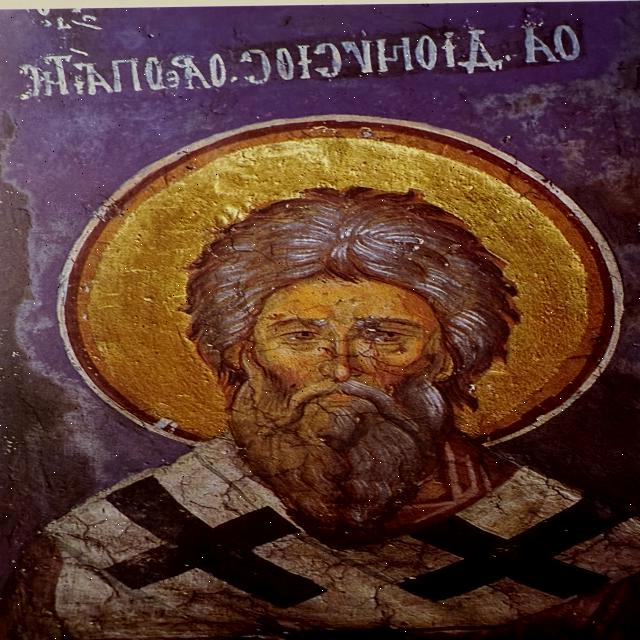aura: (53, 114, 626, 462)
church_father: (3, 114, 640, 640)
